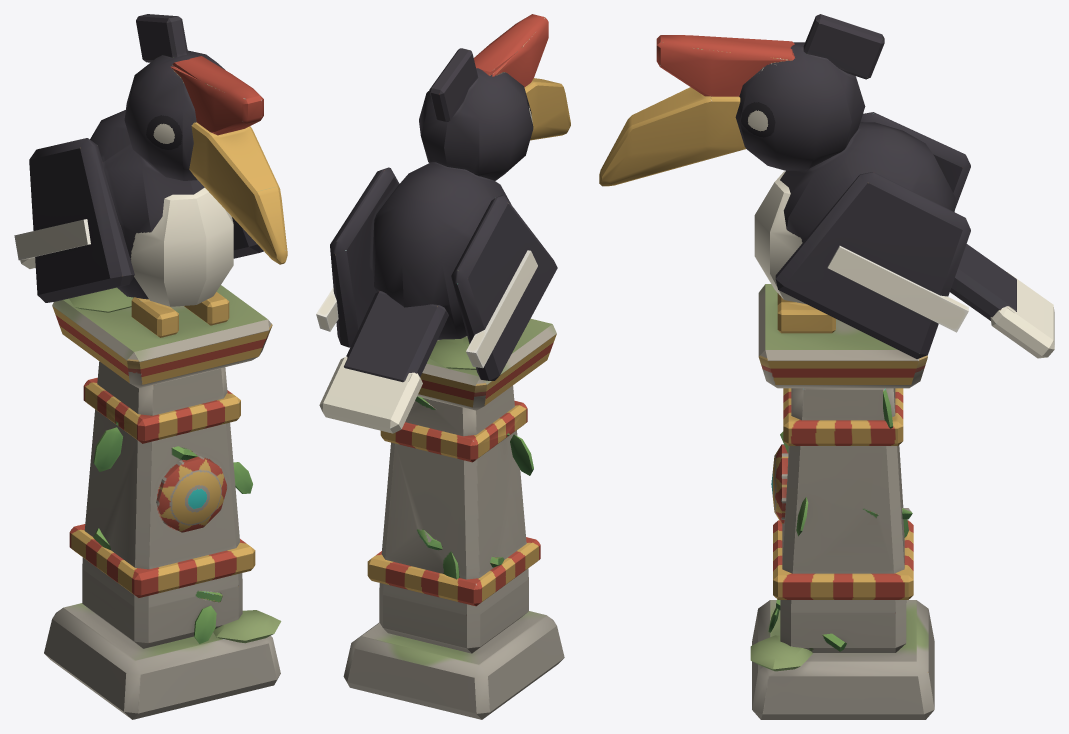
File: bulul_post.glb
3 views of the same model, side by side, from view 1: azimuth 30°, elevation 25°; view 2: azimuth 150°, elevation 25°; view 3: azimuth 270°, elevation 25° (orthographic). The views are drawn at different scales.
Parts seen in each view (by area): view 1: bulul_post; view 2: bulul_post; view 3: bulul_post.
Part boxes in pixels (<box>): bulul_post: <box>14,14,287,719</box>; bulul_post: <box>316,14,570,719</box>; bulul_post: <box>599,14,1054,719</box>.
Bounding box in the file's own units: 1.36 × 4.92 × 3.04.
1 material, 1 textured.
